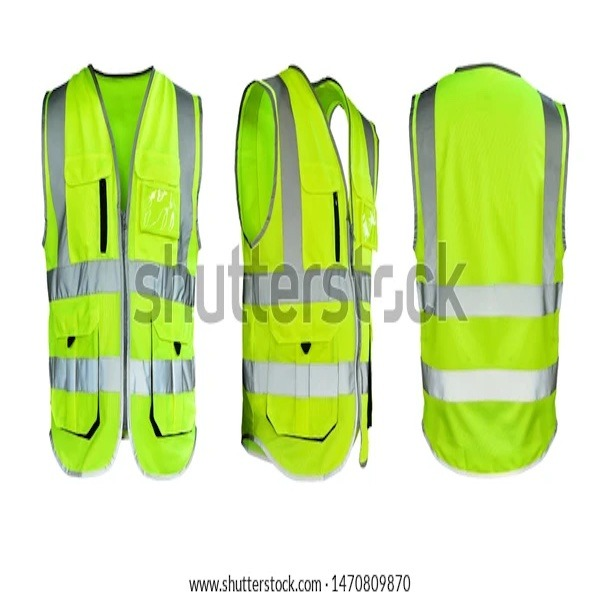vest: (43, 64, 204, 482), (409, 71, 564, 465), (238, 75, 380, 468)
